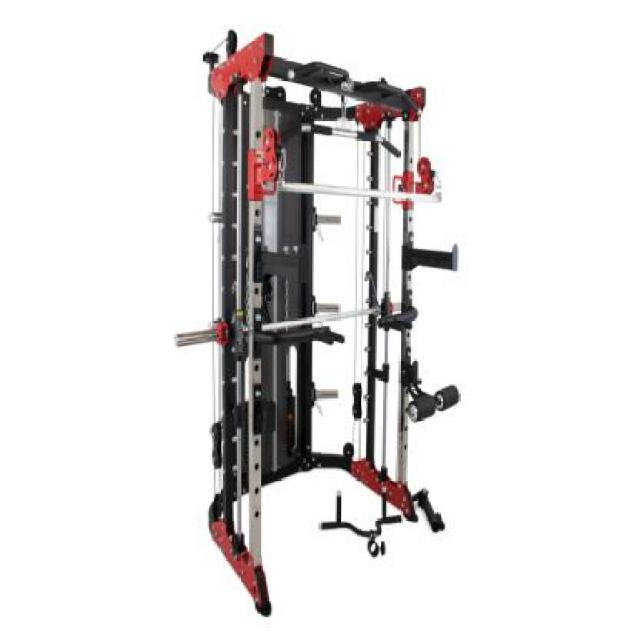smith machine: (175, 28, 458, 617)
